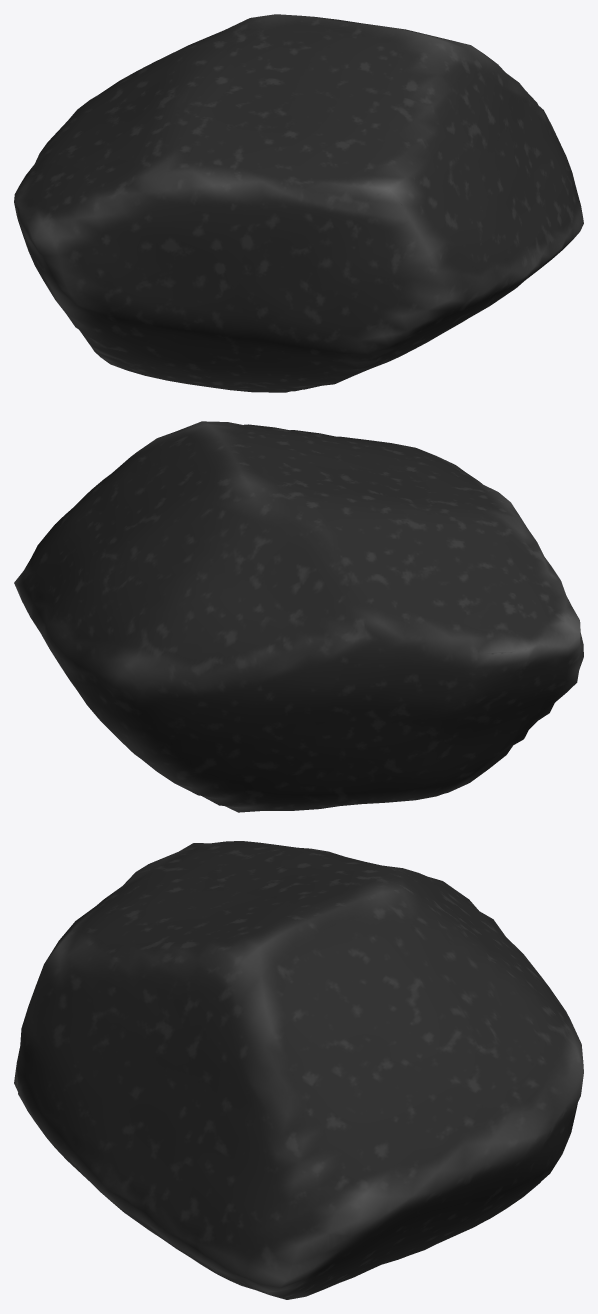
The model's file is lunar_rock0.glb.
3 renders of one model, top to bottom at view 1: azimuth 30°, elevation 25°; view 2: azimuth 150°, elevation 25°; view 3: azimuth 270°, elevation 25°, orthographic. The views are drawn at different scales.
Parts seen in each view (by area): view 1: lunar_rock_0; view 2: lunar_rock_0; view 3: lunar_rock_0.
Part boxes in pixels (x1,y1,x2,y2): lunar_rock_0: (14, 14, 583, 392); lunar_rock_0: (14, 421, 583, 812); lunar_rock_0: (14, 841, 583, 1299).
Size of the model in its own units: 0.1723 by 0.0986 by 0.1375.
1 material, 1 textured.
